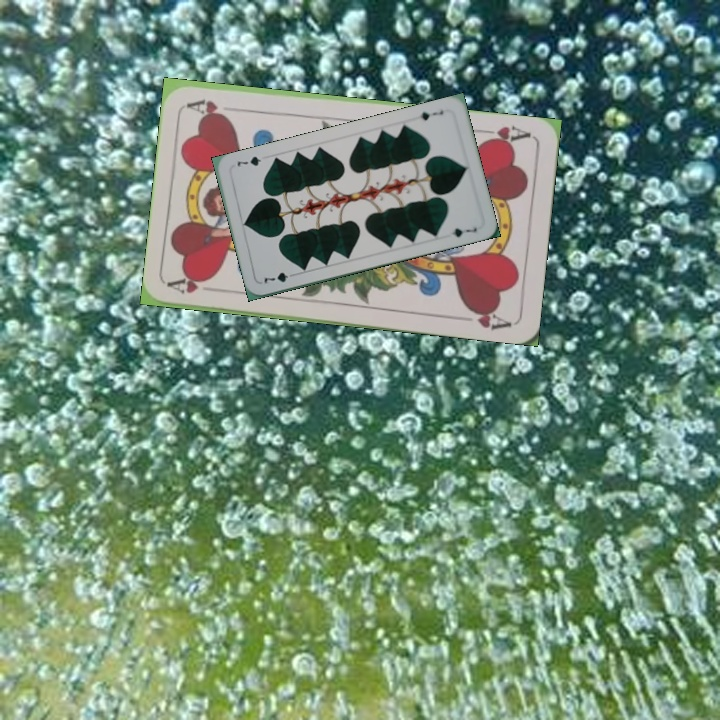G7: (260, 268, 299, 286), (416, 106, 446, 123)
HA: (474, 121, 534, 148), (166, 273, 214, 296)
